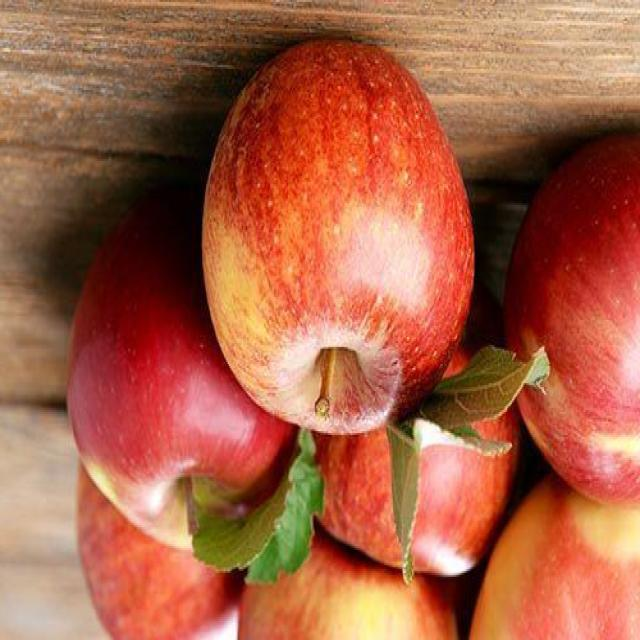Apple: (202, 44, 474, 438), (64, 203, 289, 561)
